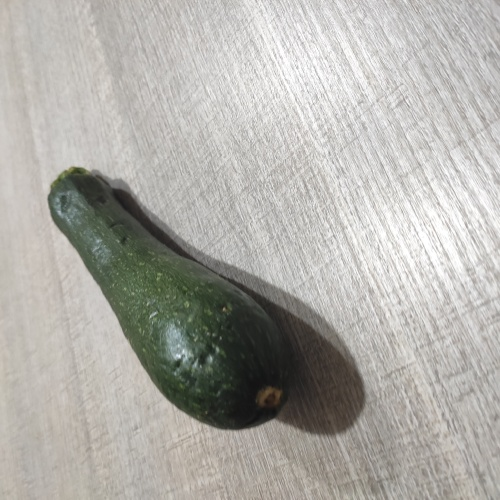zucchine: (45, 165, 290, 423)
